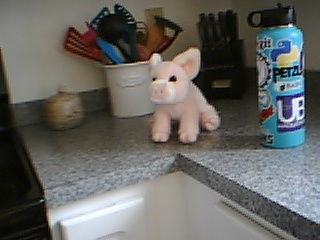piggy: (147, 46, 221, 145)
